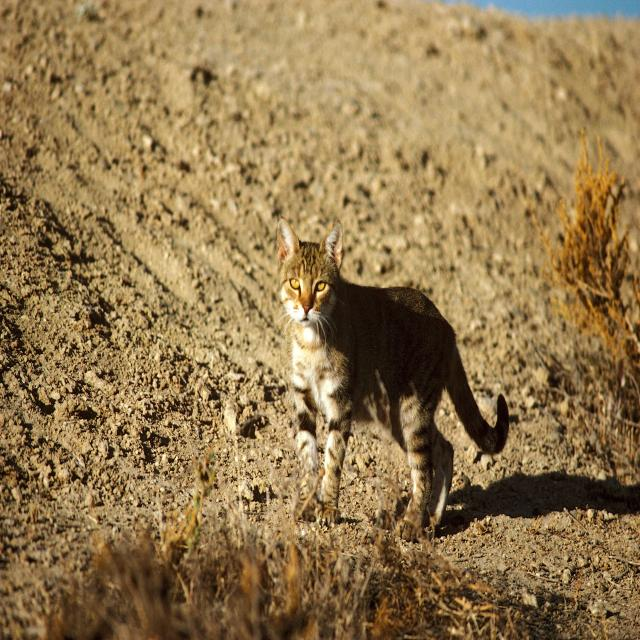cat: (278, 217, 509, 538)
